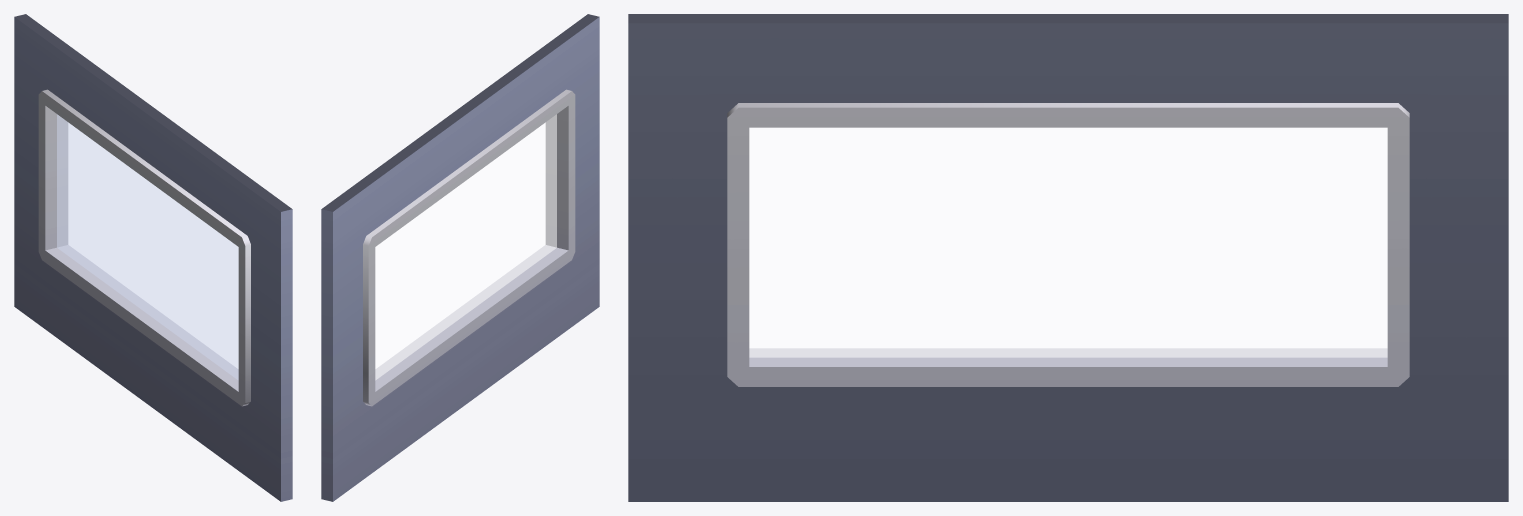
Rendered from wall-window-wide-square.optimized.glb.
3 views of the same model, side by side, from view 1: azimuth 30°, elevation 25°; view 2: azimuth 150°, elevation 25°; view 3: azimuth 270°, elevation 25° (orthographic). The views are drawn at different scales.
Parts seen in each view (by area): view 1: wall-window-wide-square, (%ignore); view 2: wall-window-wide-square, (%ignore); view 3: wall-window-wide-square, (%ignore).
Part boxes in pixels (left/top/right/bottom): wall-window-wide-square: left=14, top=14, right=292, bottom=501; (%ignore): left=57, top=114, right=238, bottom=380; wall-window-wide-square: left=321, top=14, right=599, bottom=501; (%ignore): left=375, top=114, right=556, bottom=380; wall-window-wide-square: left=628, top=14, right=1508, bottom=501; (%ignore): left=749, top=127, right=1387, bottom=357.
Size of the model in its own units: 0.2002 by 2.4 by 4.
2 materials, 1 textured.
